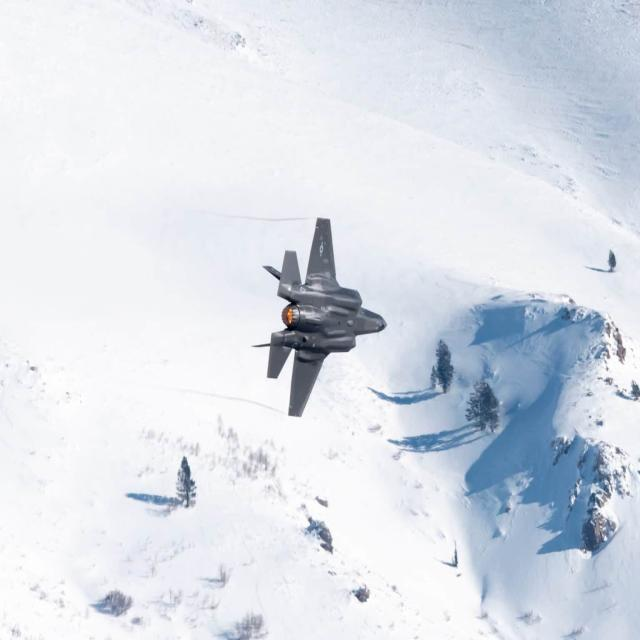MIL_Plane: (250, 216, 388, 418)
